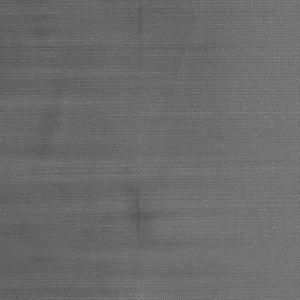Stain: (128, 178, 152, 254)
